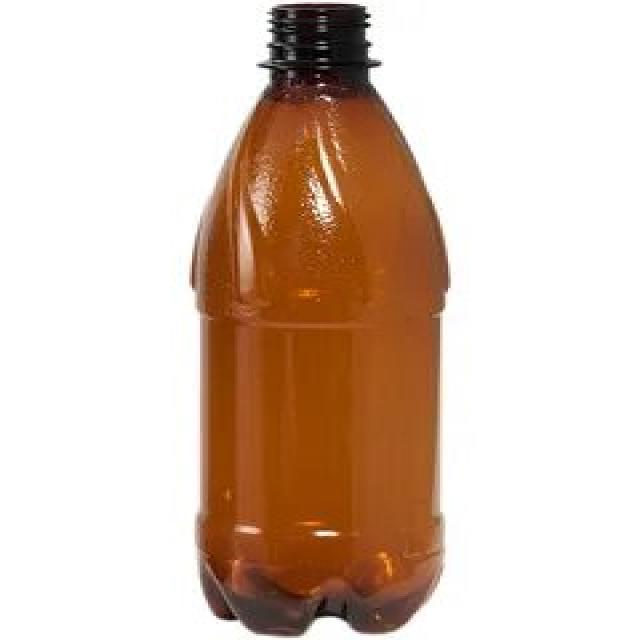brown: (189, 4, 453, 634)
